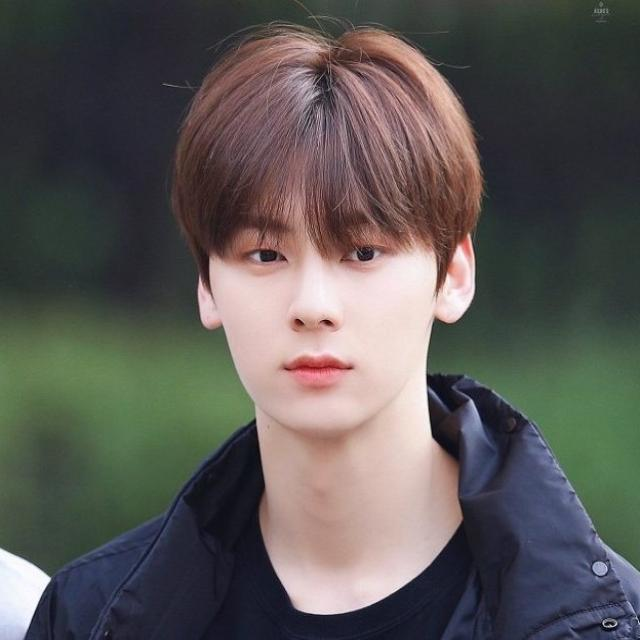Nonhelmet: (164, 18, 487, 438)
